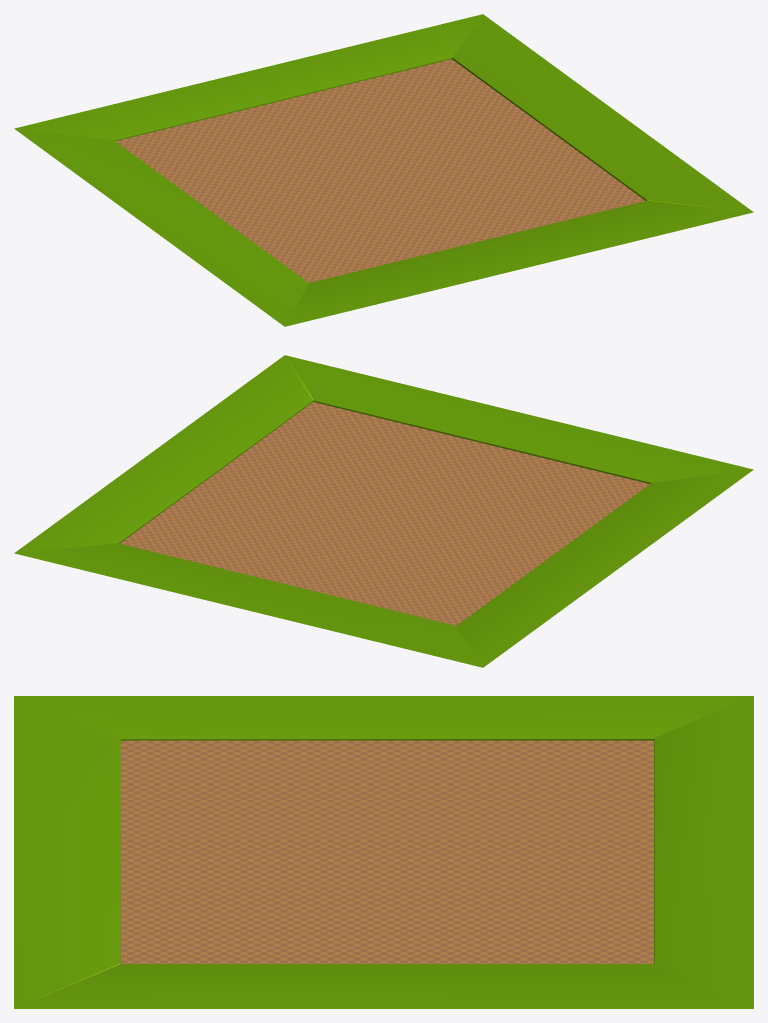
File: ForestGameMetaField.fbx
3 renders of one model, top to bottom at view 1: azimuth 30°, elevation 25°; view 2: azimuth 150°, elevation 25°; view 3: azimuth 270°, elevation 25°, orthographic. The views are drawn at different scales.
Parts seen in each view (by area): view 1: ForestGameMetaField; view 2: ForestGameMetaField; view 3: ForestGameMetaField.
Part boxes in pixels (bbox=[...]): ForestGameMetaField: bbox=[14, 14, 753, 326]; ForestGameMetaField: bbox=[14, 355, 753, 667]; ForestGameMetaField: bbox=[14, 696, 753, 1008].
Size of the model in its own units: 10737 by 39.16 by 10737.
